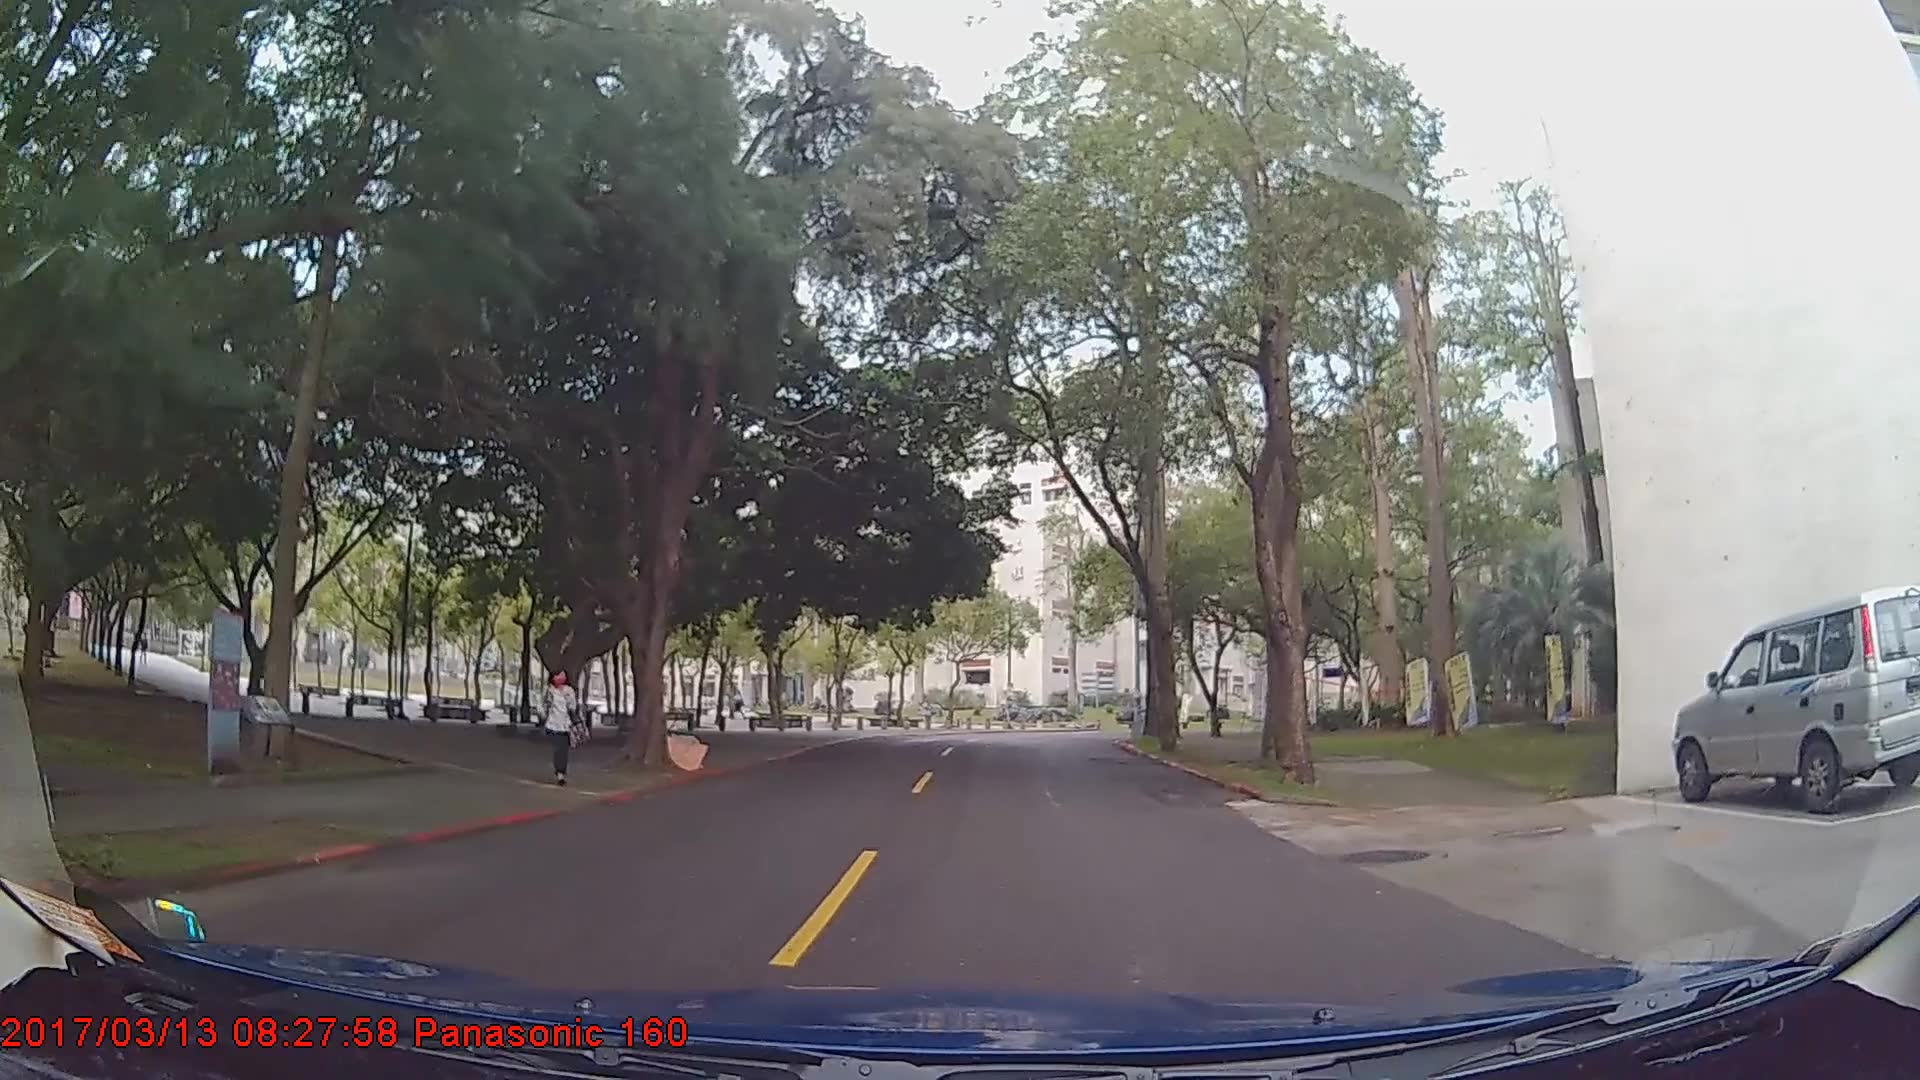pedestrian: (537, 664, 586, 785)
vehicle: (1671, 585, 1920, 819)
